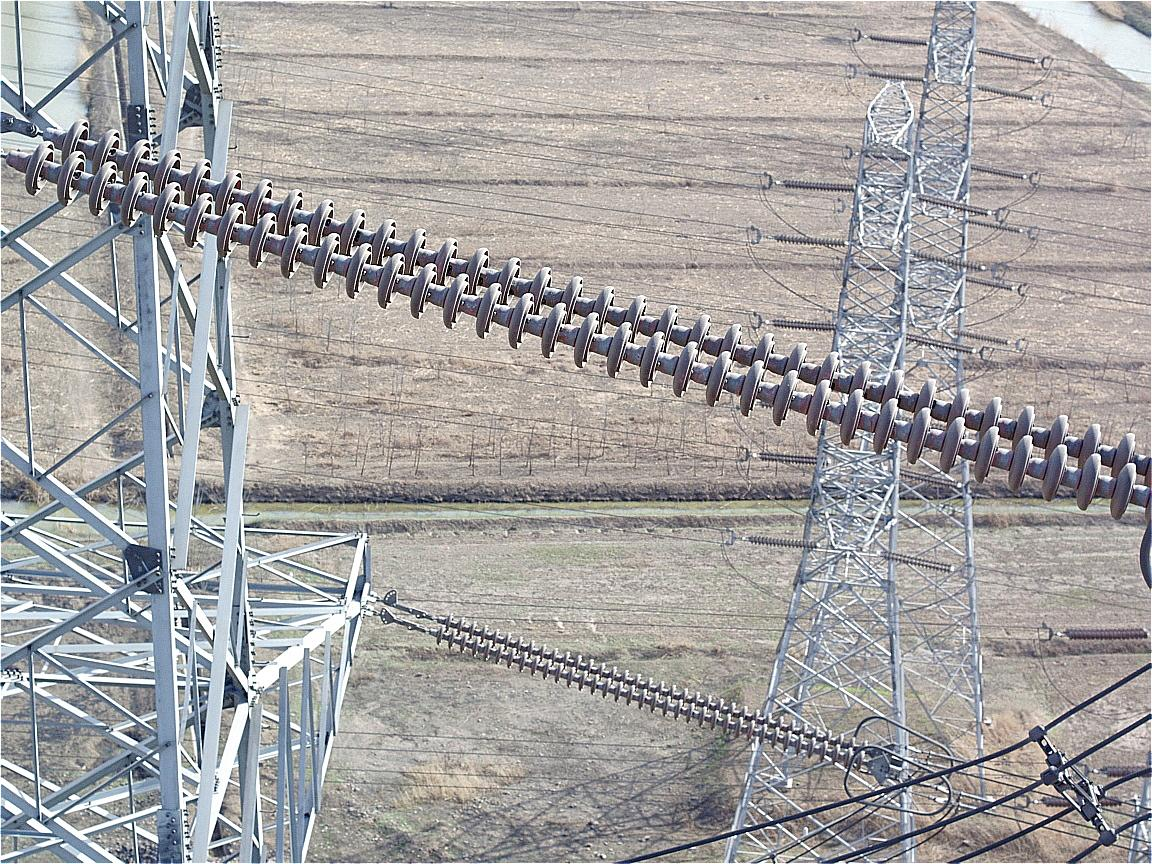insultor1: (25, 115, 1136, 520), (438, 614, 869, 770), (918, 193, 991, 216), (880, 553, 953, 574), (907, 332, 976, 354), (911, 252, 984, 272), (979, 45, 1037, 64), (971, 161, 1025, 181), (774, 233, 846, 248), (902, 470, 958, 489), (783, 179, 857, 193), (955, 328, 1011, 346), (757, 451, 821, 466), (1064, 629, 1149, 640), (871, 32, 929, 48), (979, 86, 1035, 102), (748, 537, 818, 549), (773, 319, 837, 332), (867, 70, 926, 84), (968, 219, 1023, 234), (967, 277, 1015, 293)
